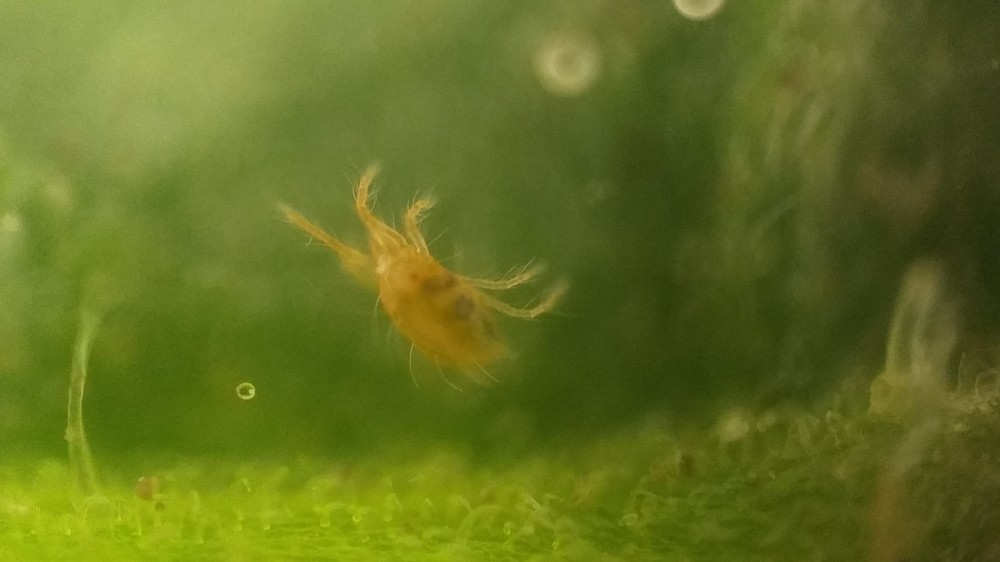Aracnido Rojo: (268, 142, 615, 425)
